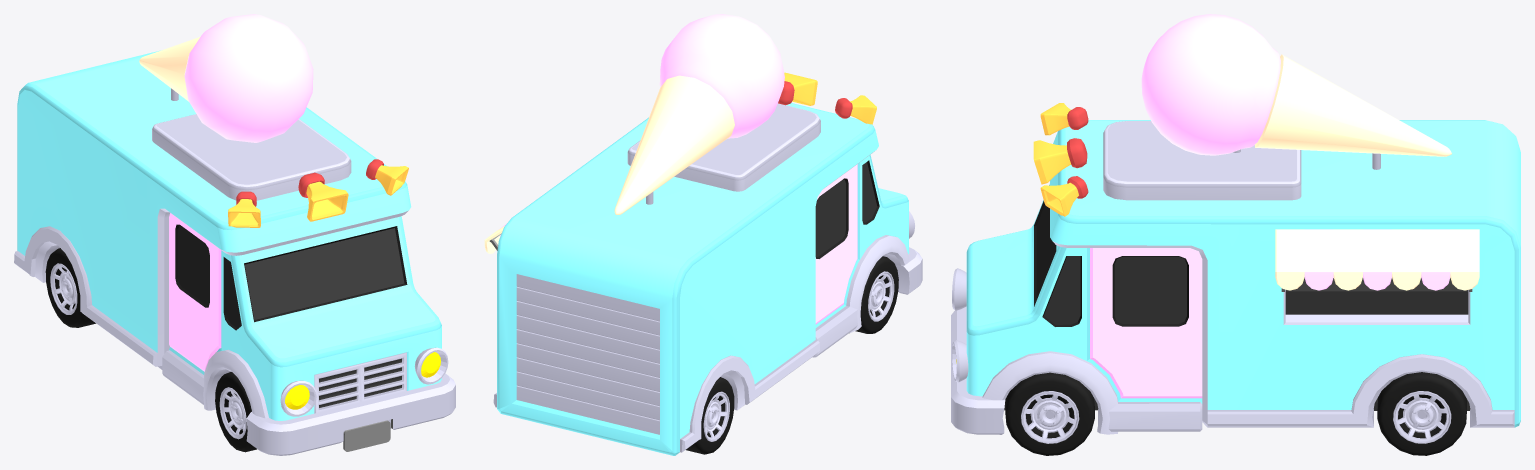
The model's file is DraftIcecreamTruck.fbx.
The picture shows the model from 3 angles, left to right: view 1: azimuth 30°, elevation 25°; view 2: azimuth 150°, elevation 25°; view 3: azimuth 270°, elevation 25°; orthographic projection. The views are drawn at different scales.
Visible parts, largest first — view 1: rear, front1, Icecream, fridgeCompressor, frontBumper, speakers, rearFenderFlare, rearWheels, frontWheels, frontFenderFlare, headlights, frontSideGuard (+1 smaller); view 2: rear, Icecream, front1, fridgeCompressor, rearFenderFlare, frontWheels, rearWheels, speakers, frontFenderFlare, frontSideGuard, frontBumper; view 3: rear, front1, Icecream, awning, fridgeCompressor, rearFenderFlare, rearWheels, frontWheels, speakers, frontFenderFlare, frontBumper, frontSideGuard (+1 smaller).
Boxes of the visible parts, x1,y1,x2,y2 form: rear: [17, 50, 411, 369]; front1: [169, 213, 441, 420]; Icecream: [139, 14, 313, 142]; fridgeCompressor: [152, 114, 351, 200]; frontBumper: [246, 373, 455, 455]; speakers: [228, 159, 408, 227]; rearFenderFlare: [14, 226, 157, 366]; rearWheels: [45, 248, 95, 327]; frontWheels: [215, 372, 256, 452]; frontFenderFlare: [203, 349, 268, 418]; headlights: [280, 347, 448, 416]; frontSideGuard: [162, 350, 203, 404]; rear: [497, 103, 878, 455]; Icecream: [614, 14, 784, 214]; front1: [815, 155, 908, 327]; fridgeCompressor: [627, 103, 820, 191]; rearFenderFlare: [493, 340, 819, 452]; frontWheels: [855, 256, 898, 333]; rearWheels: [686, 377, 734, 454]; speakers: [778, 72, 876, 124]; frontFenderFlare: [846, 235, 909, 333]; frontSideGuard: [812, 306, 857, 357]; frontBumper: [896, 247, 922, 294]; rear: [1050, 120, 1520, 427]; front1: [966, 184, 1202, 424]; Icecream: [1141, 14, 1451, 169]; awning: [1275, 229, 1479, 290]; fridgeCompressor: [1103, 121, 1301, 200]; rearFenderFlare: [1207, 354, 1514, 425]; rearWheels: [1377, 372, 1466, 455]; frontWheels: [1005, 372, 1094, 455]; speakers: [1033, 103, 1088, 216]; frontFenderFlare: [982, 351, 1117, 434]; frontBumper: [951, 306, 1005, 434]; frontSideGuard: [1108, 402, 1202, 431].
Bounding box in the file's own units: 29.66 × 45.07 × 59.82.
